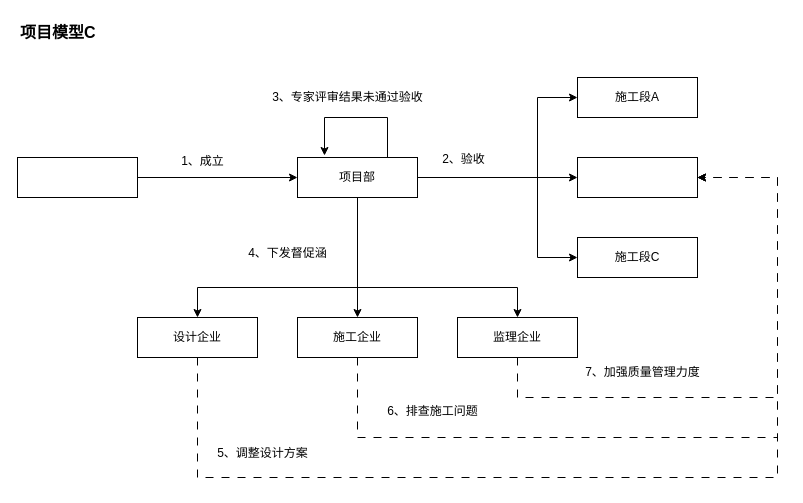
Image size: 803x503. Some labels were removed from this diagram. Here are the shapes that lost their labels. From the top down, the box of each, then its label:
(16, 156, 138, 198): 水处管理处
(576, 156, 698, 198): 施工段B
